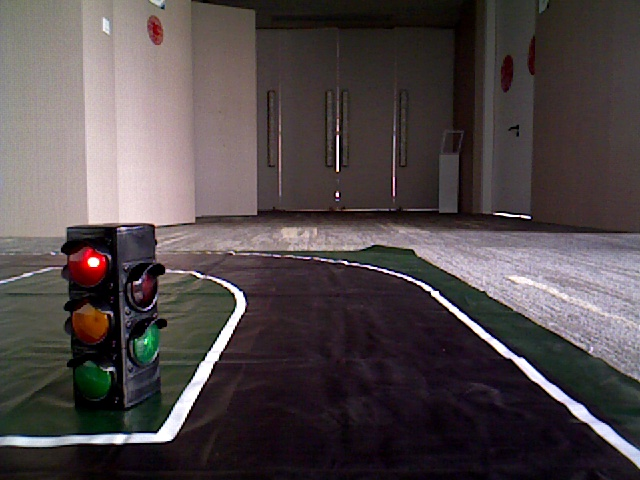red: (66, 225, 121, 394)
